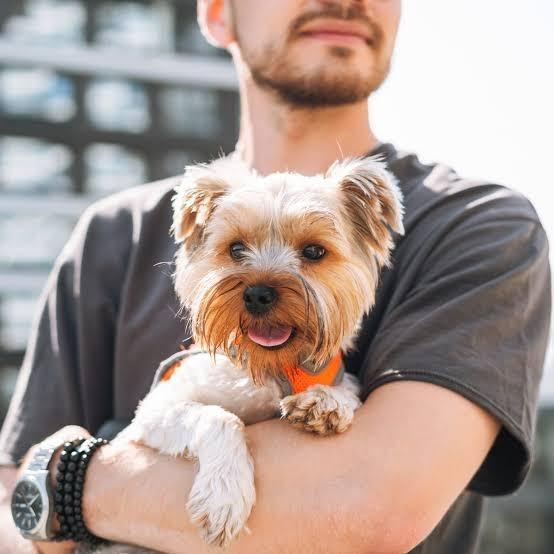adult_dog: (104, 159, 407, 545)
